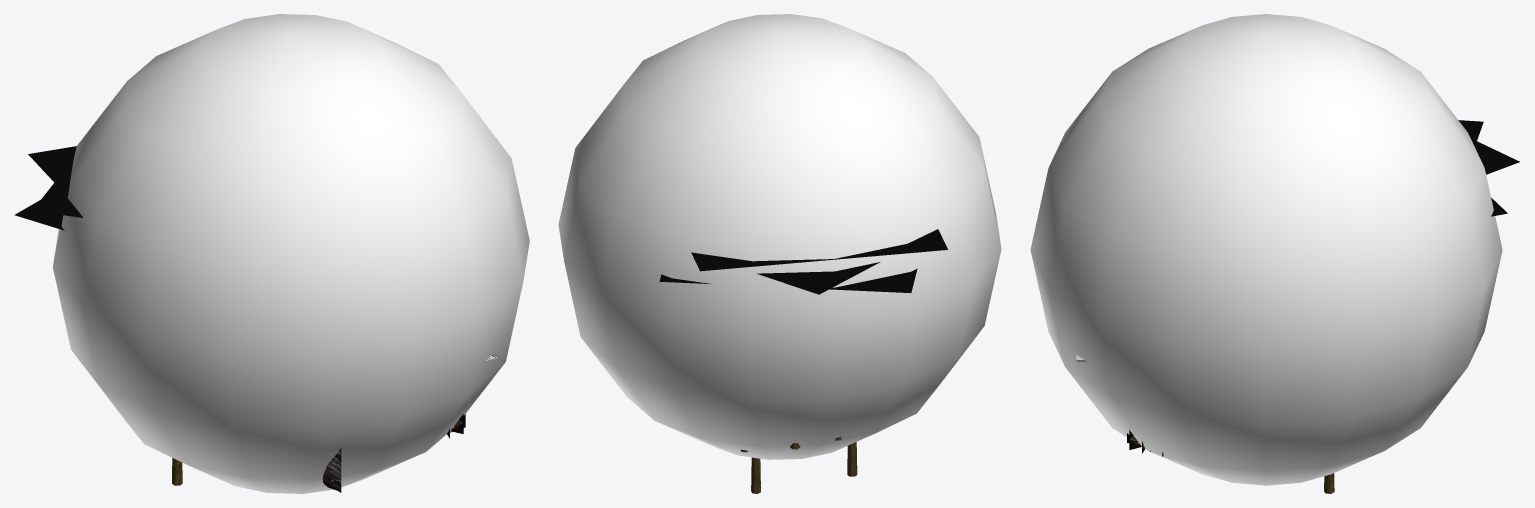
File: TrishulForest.glb
The picture shows the model from 3 angles, left to right: view 1: azimuth 30°, elevation 25°; view 2: azimuth 150°, elevation 25°; view 3: azimuth 270°, elevation 25°; orthographic projection. The views are drawn at different scales.
Parts seen in each view (by area): view 1: SkySphere.001, bigTreeLeaves.002, bigTreeLeaves.001, terrain, bigTreeLeaves; view 2: SkySphere.001, bigTreeLeaves.002, bigTreeLeaves.001, bigTreeLeaves; view 3: SkySphere.001, bigTreeLeaves.002.
Boxes of the visible parts, x1,y1,x2,y2 form: SkySphere.001: (53,14,529,493); bigTreeLeaves.002: (32,158,83,217); bigTreeLeaves.001: (28,146,76,182); terrain: (322,353,498,492); bigTreeLeaves: (14,200,64,230); SkySphere.001: (558,14,1001,459); bigTreeLeaves.002: (691,229,947,271); bigTreeLeaves.001: (757,262,880,294); bigTreeLeaves: (659,268,917,292); SkySphere.001: (1030,14,1502,485); bigTreeLeaves.002: (1471,138,1519,174).
Size of the model in its own units: 968 by 1010 by 977.
14 materials, 11 textured.
